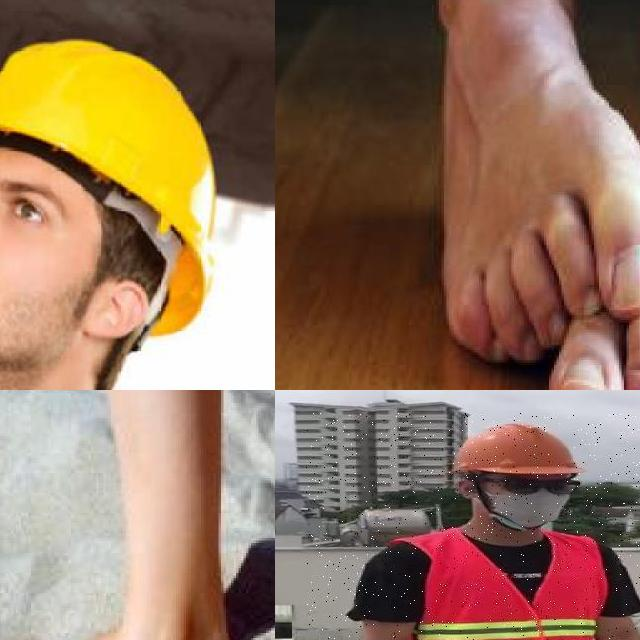Barefoots: (431, 0, 640, 383), (0, 585, 264, 640)
No_Ear-Protection: (82, 279, 150, 343)
No_Glasses: (0, 150, 57, 249)
head_helmet: (448, 420, 586, 481)
person: (306, 412, 640, 640)
vest: (408, 533, 606, 640)
